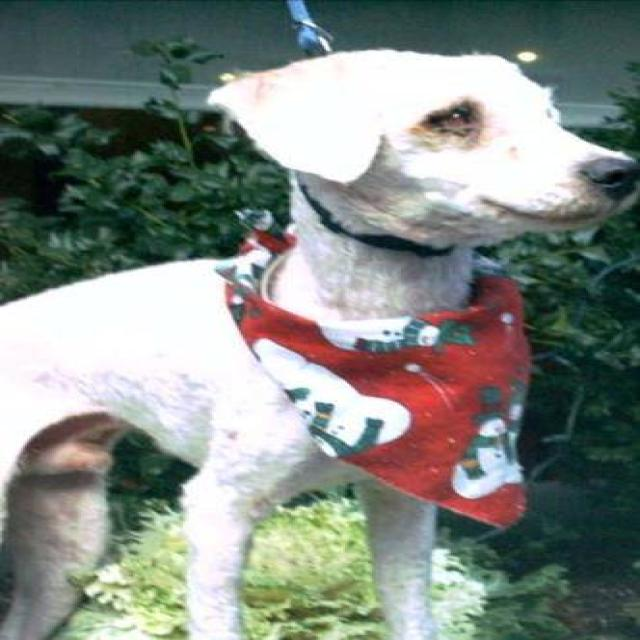dog: (0, 46, 638, 639)
